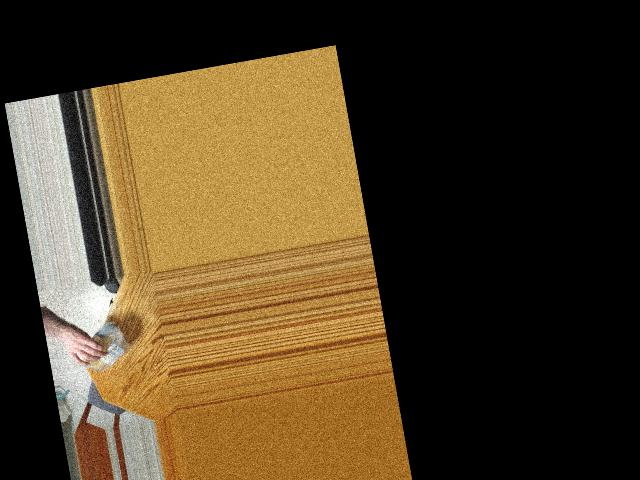cheese: (69, 322, 132, 377)
